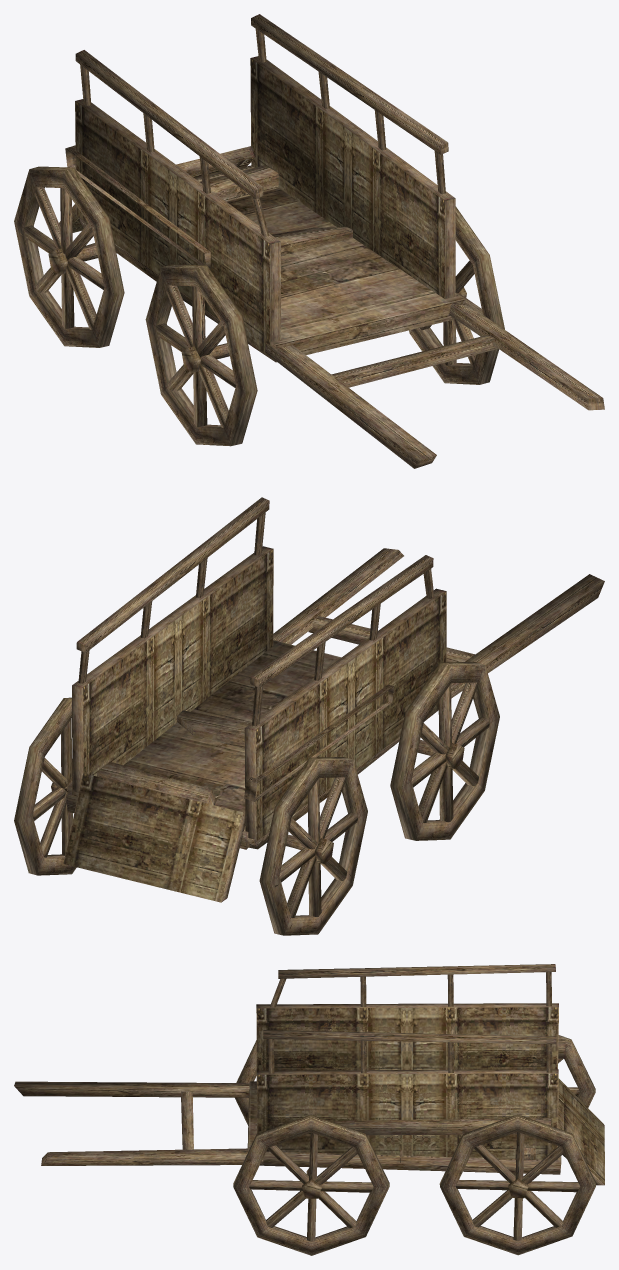
Rendered from S_Build_West029.FBX.
3 views of the same model, one above another, from view 1: azimuth 30°, elevation 25°; view 2: azimuth 150°, elevation 25°; view 3: azimuth 270°, elevation 25° (orthographic). The views are drawn at different scales.
Parts seen in each view (by area): view 1: S_Build_West029; view 2: S_Build_West029; view 3: S_Build_West029.
Part boxes in pixels (x1,y1,x2,y2): S_Build_West029: (14, 14, 604, 468); S_Build_West029: (14, 497, 604, 935); S_Build_West029: (14, 964, 604, 1255).
Size of the model in its own units: 197 by 473 by 186.
